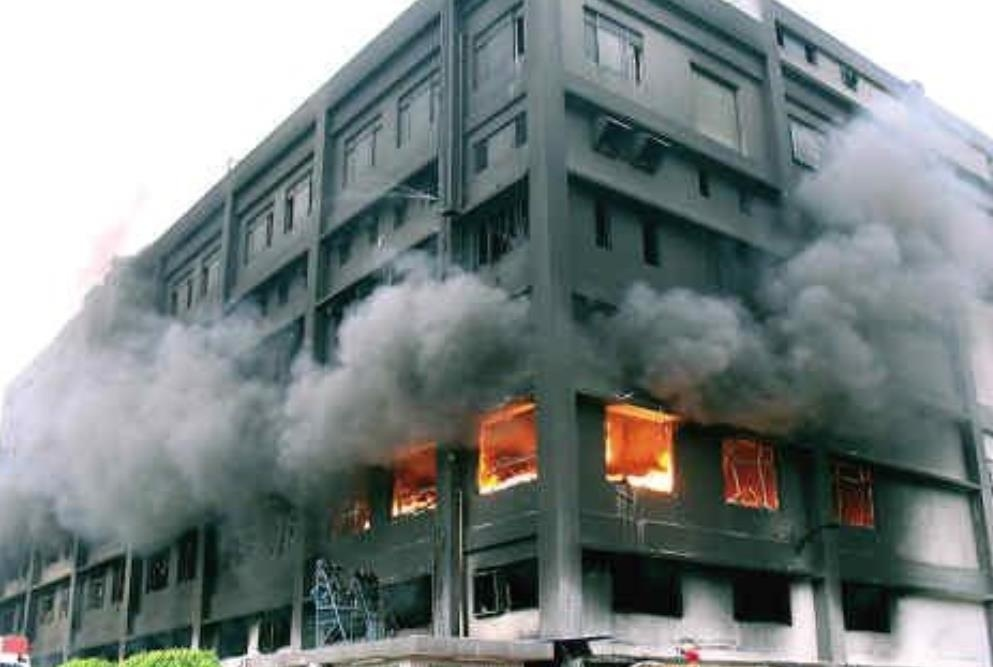fire: (601, 397, 678, 493), (475, 399, 541, 491), (720, 431, 779, 508), (394, 441, 438, 514)
